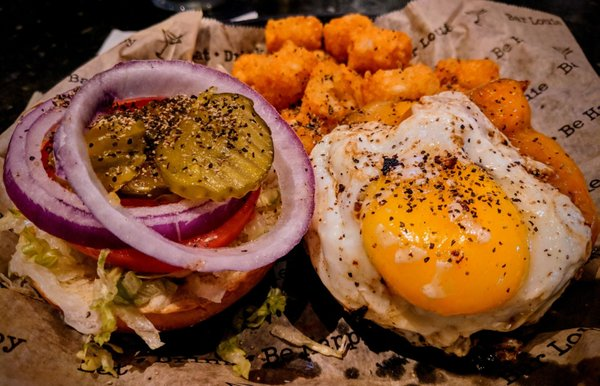soup: (1, 57, 316, 358)
